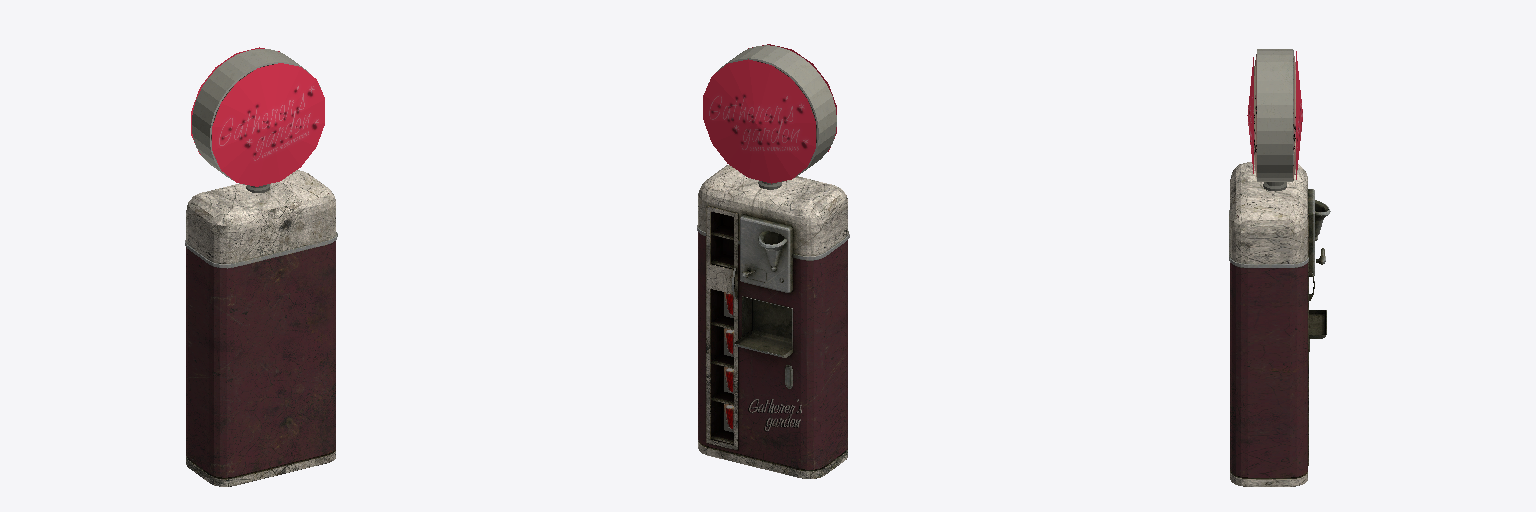
3 views of the same model, side by side, from view 1: azimuth 30°, elevation 25°; view 2: azimuth 150°, elevation 25°; view 3: azimuth 270°, elevation 25° (orthographic).
Visible parts, largest first — view 1: plasmidgrowth_DropBox; view 2: plasmidgrowth_DropBox; view 3: plasmidgrowth_DropBox.
Part boxes in pixels (x1,y1,x2,y2): plasmidgrowth_DropBox: (185,47,337,486); plasmidgrowth_DropBox: (697,44,849,478); plasmidgrowth_DropBox: (1229,49,1330,486).
Size of the model in its own units: 97.5 by 295 by 67.75.
3 materials, 3 textured.